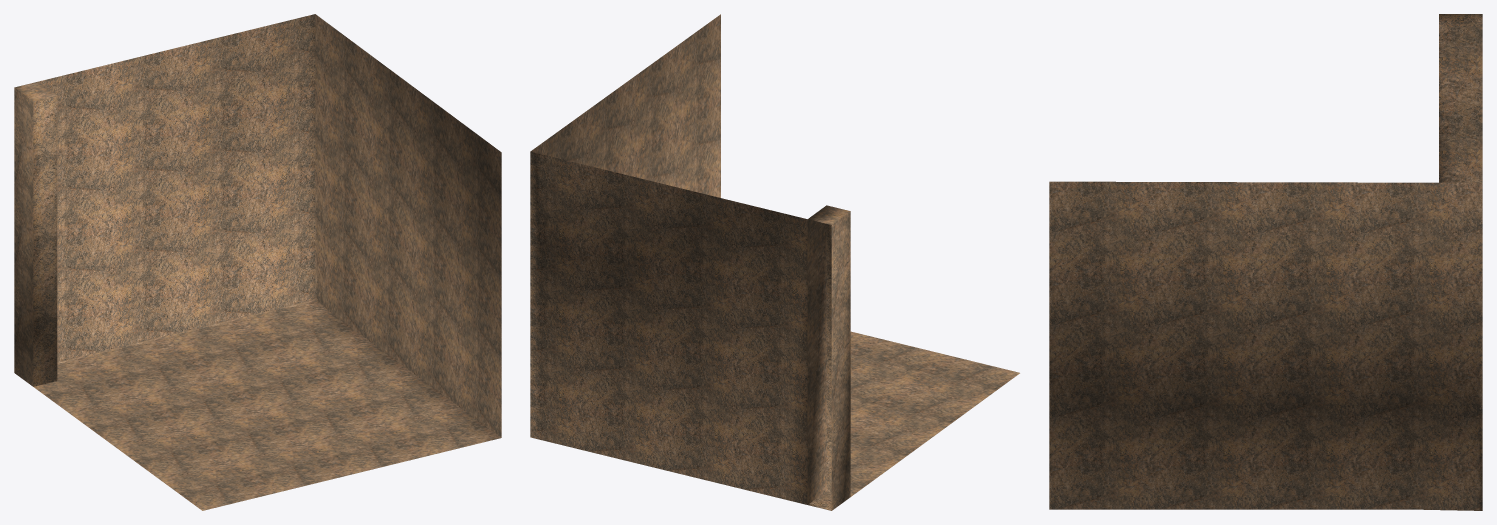
Rendered from CaveLow.fbx.
The picture shows the model from 3 angles, left to right: view 1: azimuth 30°, elevation 25°; view 2: azimuth 150°, elevation 25°; view 3: azimuth 270°, elevation 25°; orthographic projection. The views are drawn at different scales.
Parts seen in each view (by area): view 1: Cave wall.001; view 2: Cave wall.001; view 3: Cave wall.001.
Part boxes in pixels (x1,y1,x2,y2): Cave wall.001: [14, 14, 501, 510]; Cave wall.001: [530, 14, 1019, 510]; Cave wall.001: [1049, 14, 1482, 510].
Bounding box in the file's own units: 20521 × 18585 × 22231.
